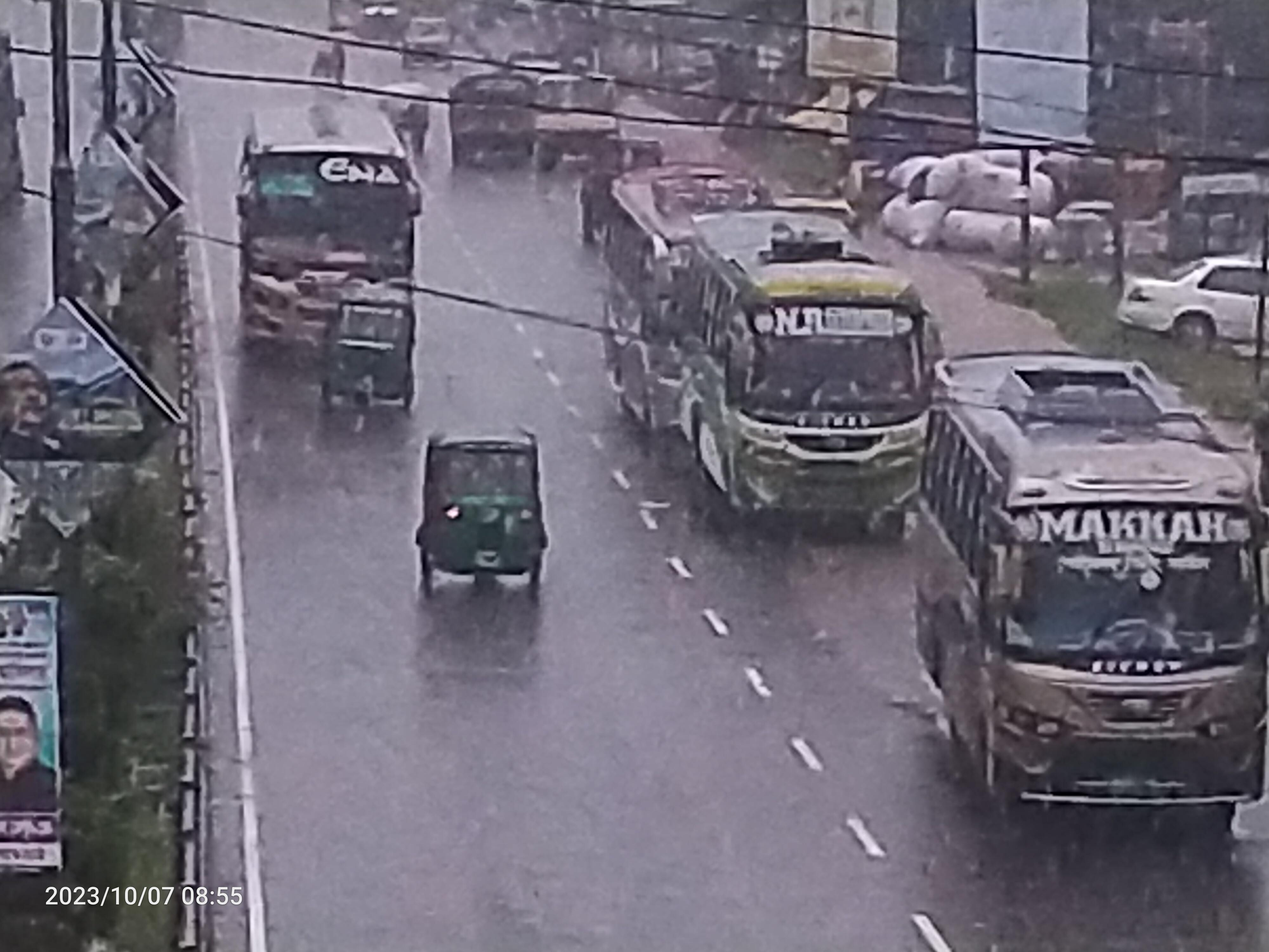Bus: (887, 314, 1269, 855), (650, 170, 932, 559), (207, 89, 458, 372), (585, 145, 707, 430)
Car: (1106, 231, 1269, 356)
